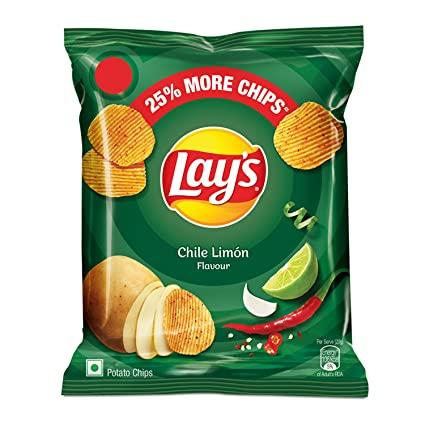Lays: (60, 25, 372, 402)
